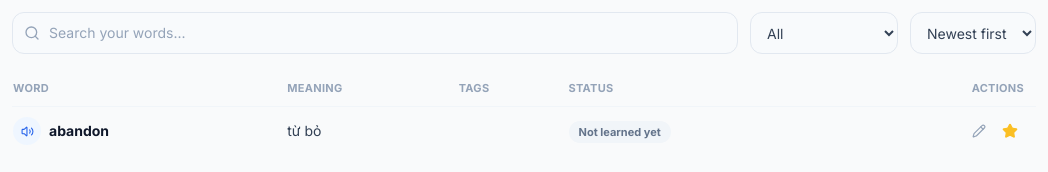
Test: PersonalWordListTab › shows every row already starred (filled), and unstarring it (after confirming) removes it from the list
Expected: the text "abandon" is shown, [49,121,109,141]
Click the button named "Remove from My Vocabulary" at (1010, 131), box [996,117,1024,145]
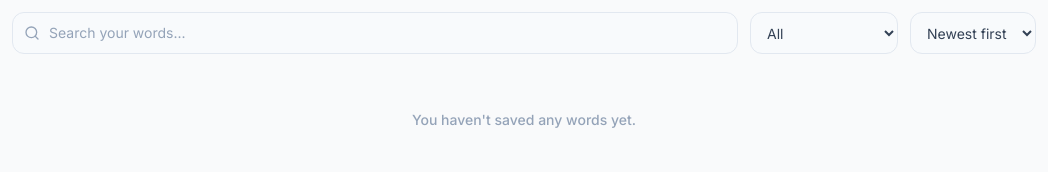
Expected: the text "abandon" is gone
